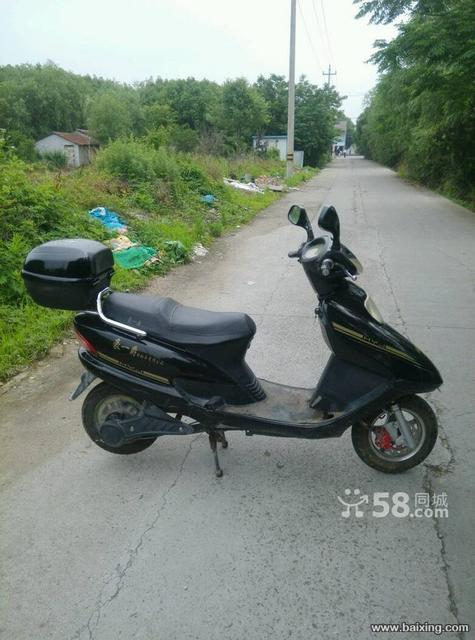电动车: (24, 201, 461, 490)
